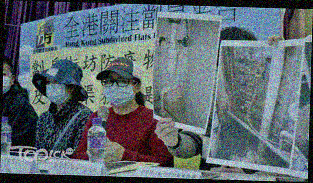with_mask: (104, 74, 136, 107), (46, 76, 71, 105), (3, 67, 13, 98)
